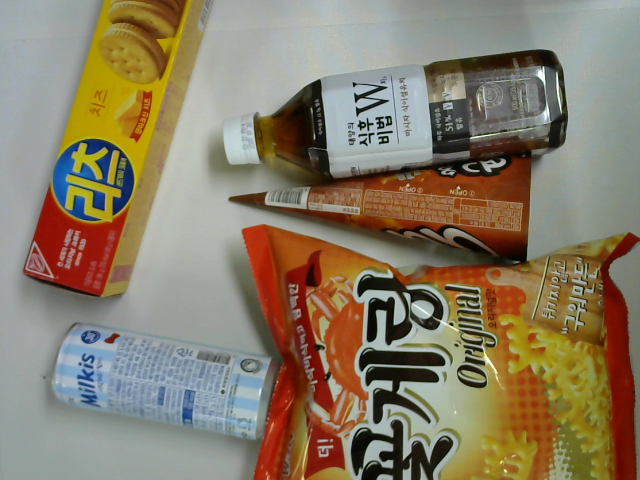Crabrang: (241, 224, 640, 480)
GooGoo_Cone_CVS: (226, 147, 536, 269)
Milkies_250ml: (50, 321, 279, 441)
Post-meal_recipe_W_tea_500ml: (222, 48, 570, 182)
Ritz_Sand_Cracker: (22, 1, 216, 301)
